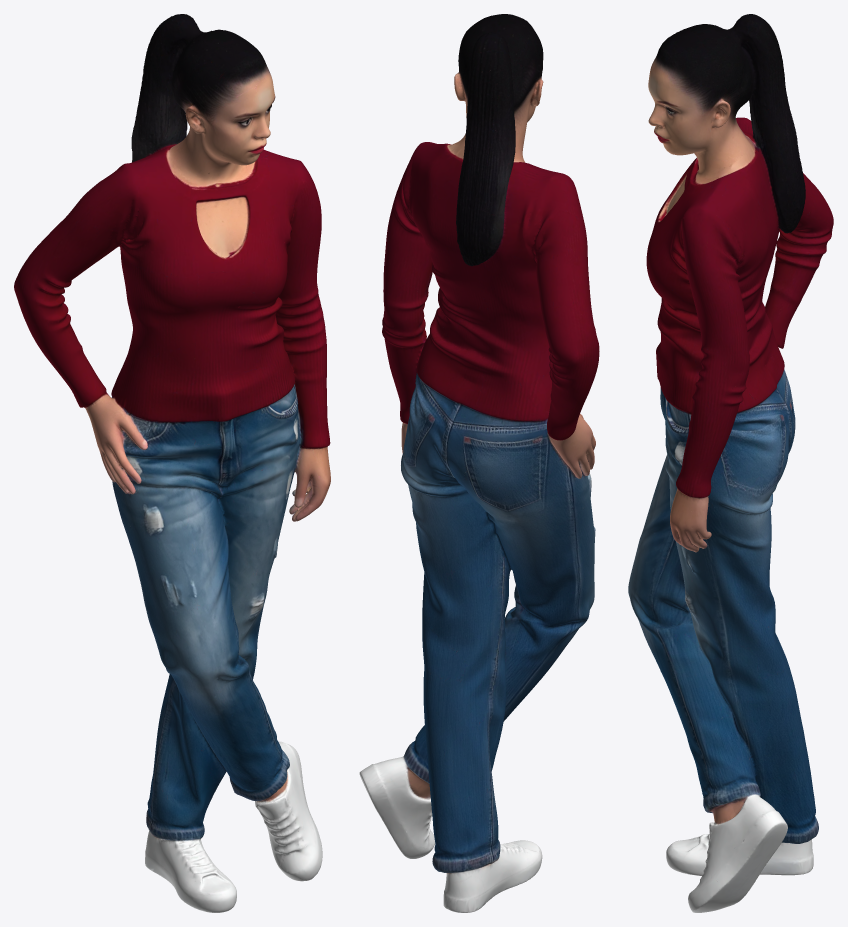
Rendered from Fplayer.glb.
The picture shows the model from 3 angles, left to right: view 1: azimuth 30°, elevation 25°; view 2: azimuth 150°, elevation 25°; view 3: azimuth 270°, elevation 25°; orthographic projection. The views are drawn at different scales.
Parts seen in each view (by area): view 1: Object_5, Object_6, Object_7; view 2: Object_6, Object_5, Object_7; view 3: Object_5, Object_6, Object_7.
Part boxes in pixels (box(x1,y1,x2,y2)): Object_5: box(30, 14, 330, 911); Object_6: box(14, 17, 326, 912); Object_7: box(114, 79, 326, 893); Object_6: box(360, 15, 599, 912); Object_5: box(359, 14, 595, 896); Object_7: box(400, 51, 594, 858); Object_5: box(628, 14, 797, 912); Object_6: box(666, 17, 833, 912); Object_7: box(663, 107, 716, 880).
Bounding box in the file's own units: 0.5884 × 1.9 × 0.4167.
1 material, 1 textured.
